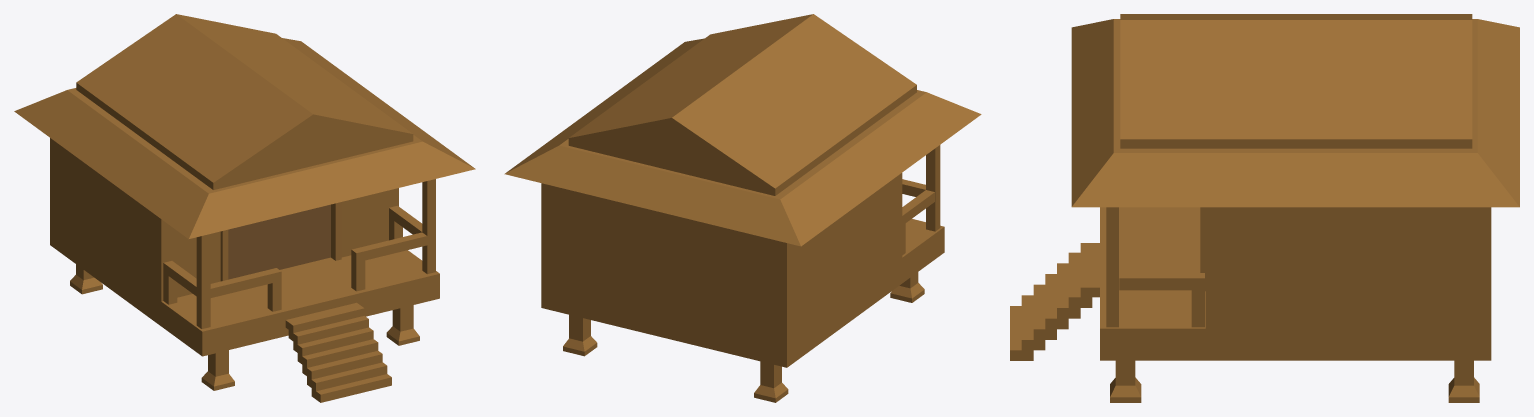
File: Rumah Warga.fbx
The picture shows the model from 3 angles, left to right: view 1: azimuth 30°, elevation 25°; view 2: azimuth 150°, elevation 25°; view 3: azimuth 270°, elevation 25°; orthographic projection. The views are drawn at different scales.
Visible parts, largest first — view 1: pondasi.017; view 2: pondasi.017; view 3: pondasi.017.
Boxes of the visible parts, x1,y1,x2,y2 form: pondasi.017: (14,14,475,402); pondasi.017: (504,14,981,402); pondasi.017: (1010,14,1519,402).
Size of the model in its own units: 1088 by 899 by 1303.
